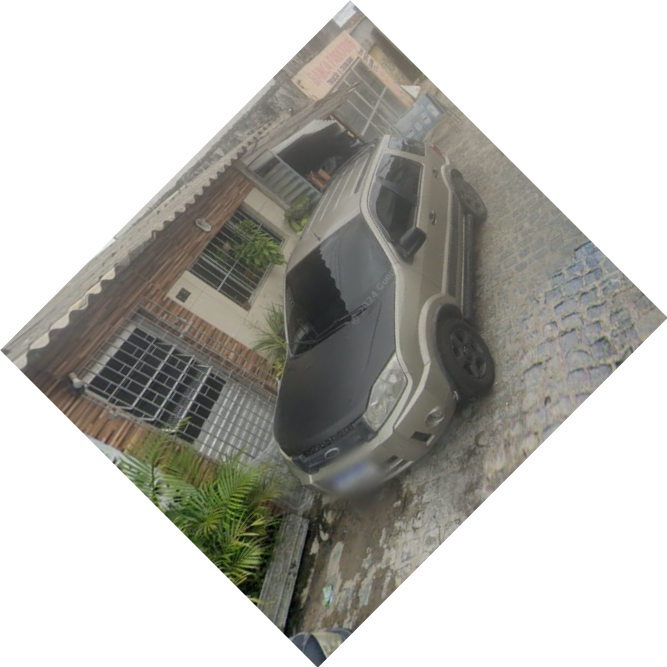car: (270, 133, 498, 502)
